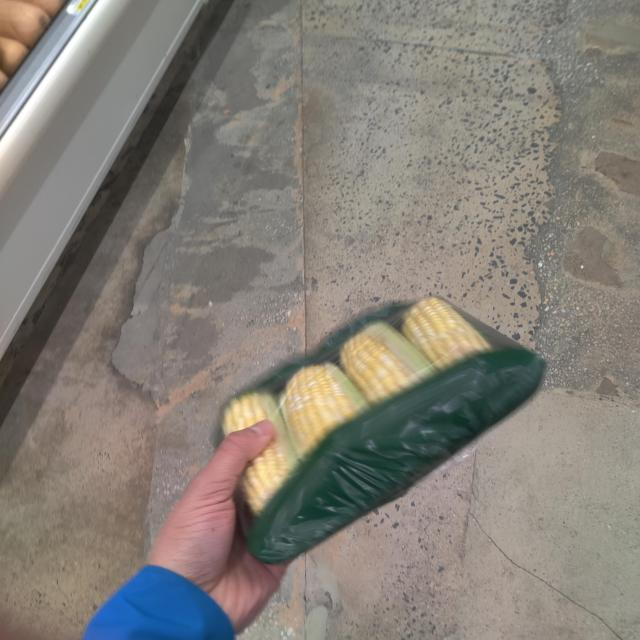Corn: (191, 280, 546, 539)
